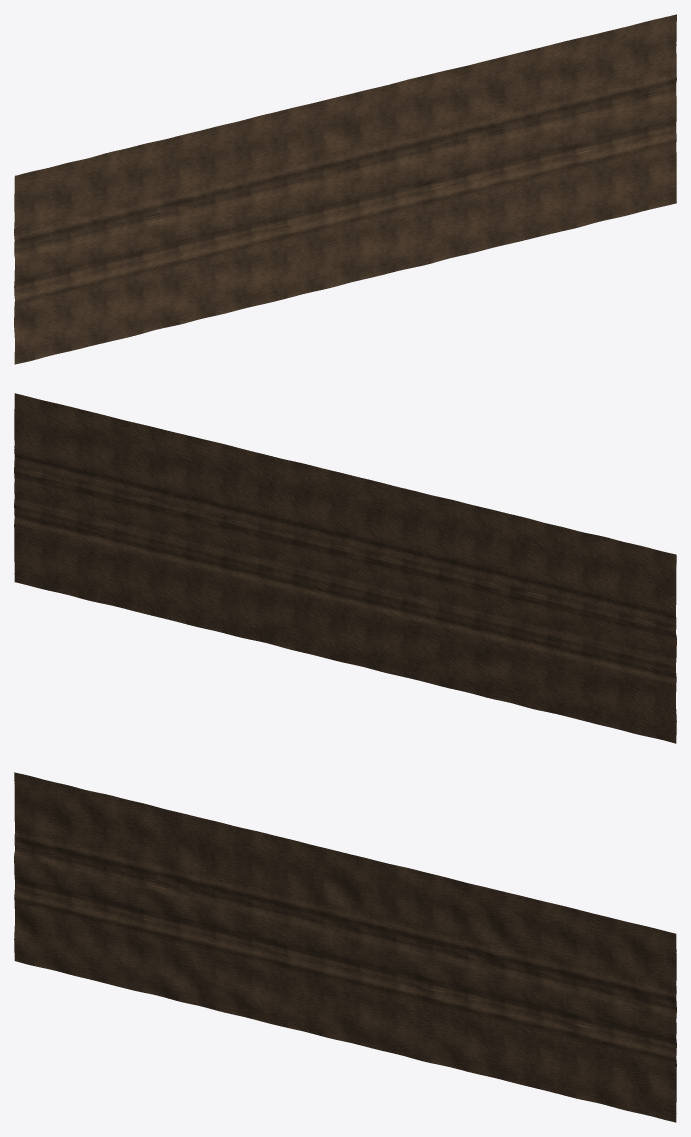
Rendered from ground.obj.
The picture shows the model from 3 angles, top to bottom: view 1: azimuth 30°, elevation 25°; view 2: azimuth 150°, elevation 25°; view 3: azimuth 330°, elevation 25°; orthographic projection.
Bounding box in the file's own units: 22 × 6 × 0.0856.
1 material, 1 textured.
